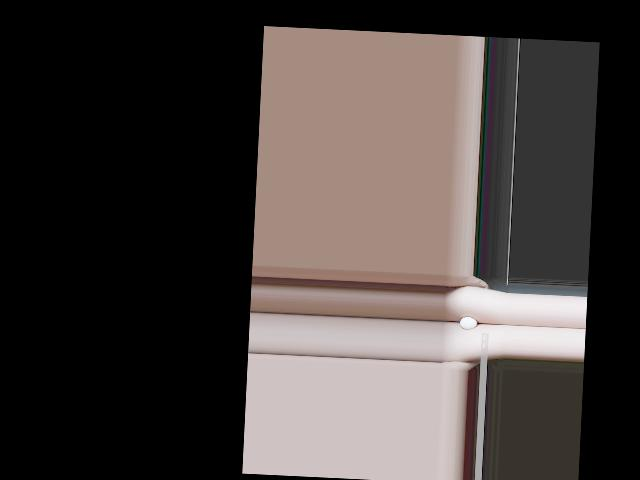egg: (460, 316, 477, 330)
